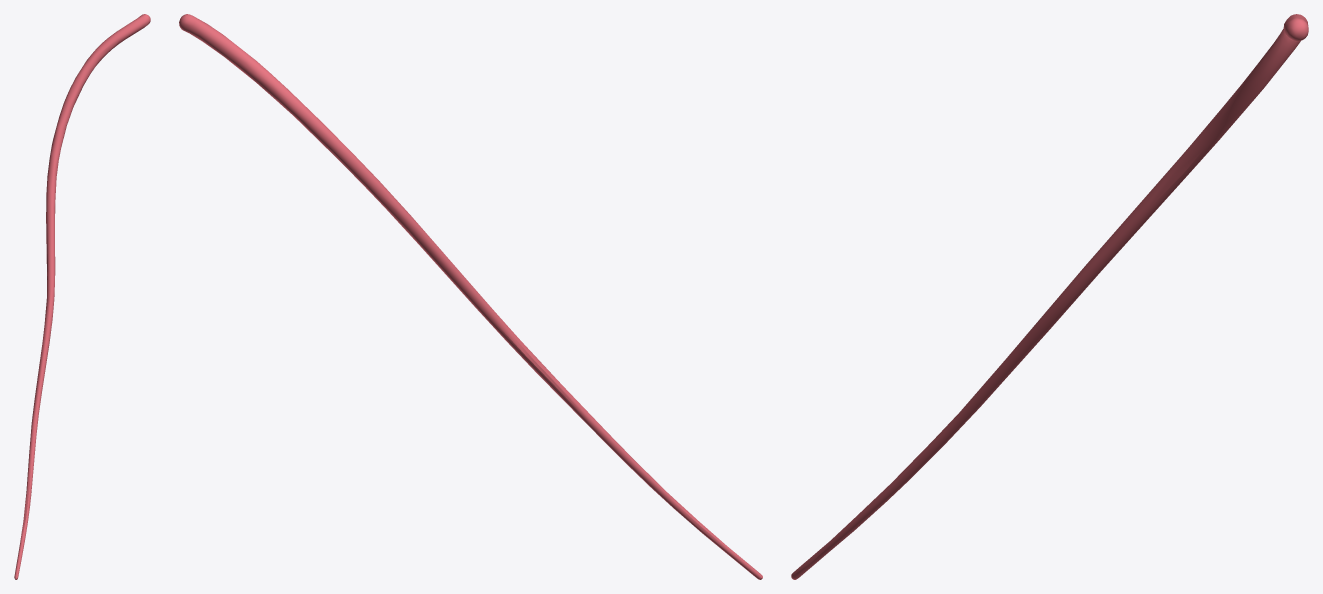
The model's file is fma22920_fj2353.glb.
3 renders of one model, left to right at view 1: azimuth 30°, elevation 25°; view 2: azimuth 150°, elevation 25°; view 3: azimuth 270°, elevation 25°, orthographic. The views are drawn at different scales.
Parts seen in each view (by area): view 1: FMA22920_FJ2353; view 2: FMA22920_FJ2353; view 3: FMA22920_FJ2353.
Part boxes in pixels (bbox=[...]): FMA22920_FJ2353: bbox=[14, 14, 150, 579]; FMA22920_FJ2353: bbox=[179, 14, 762, 579]; FMA22920_FJ2353: bbox=[791, 14, 1308, 579].
Size of the model in its own units: 0.0372 by 0.0554 by 0.0322.
